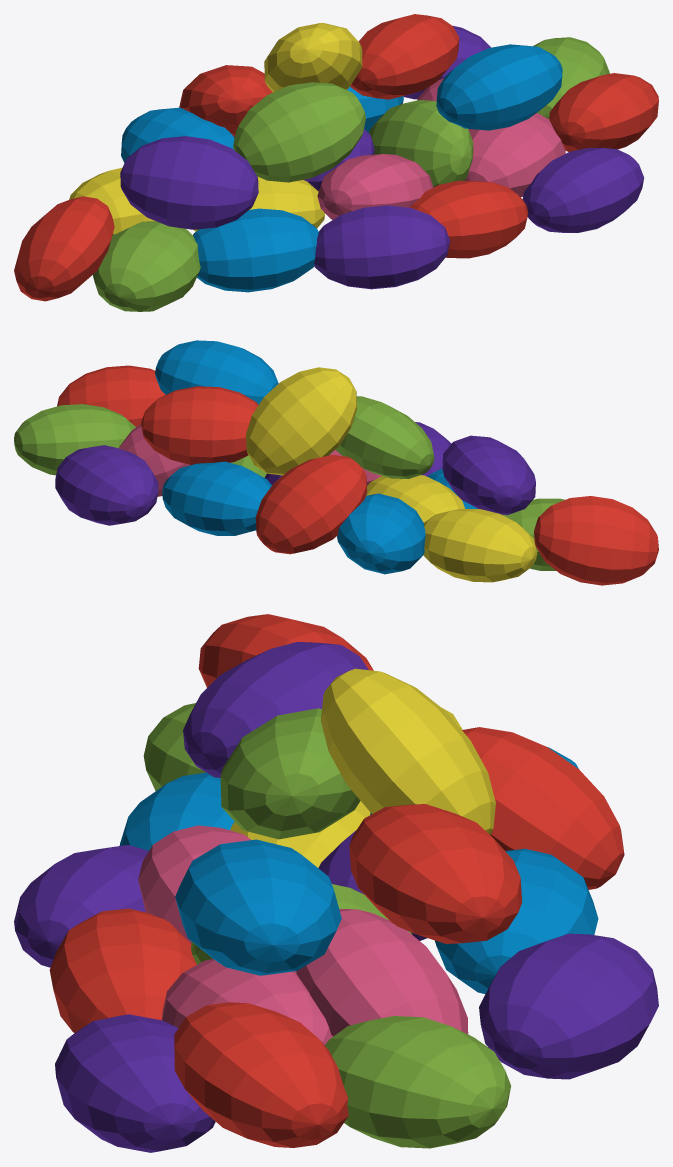
3 renders of one model, top to bottom at view 1: azimuth 30°, elevation 25°; view 2: azimuth 150°, elevation 25°; view 3: azimuth 270°, elevation 25°, orthographic. The views are drawn at different scales.
Parts seen in each view (by area): view 1: node_MeshObject-413196288-PolyPaper21; view 2: node_MeshObject-413196288-PolyPaper21; view 3: node_MeshObject-413196288-PolyPaper21.
Part boxes in pixels (<box>): node_MeshObject-413196288-PolyPaper21: <box>14,14,658,311</box>; node_MeshObject-413196288-PolyPaper21: <box>14,340,658,585</box>; node_MeshObject-413196288-PolyPaper21: <box>14,614,658,1152</box>.
Bounding box in the file's own units: 0.8936 × 0.2568 × 0.4868.
